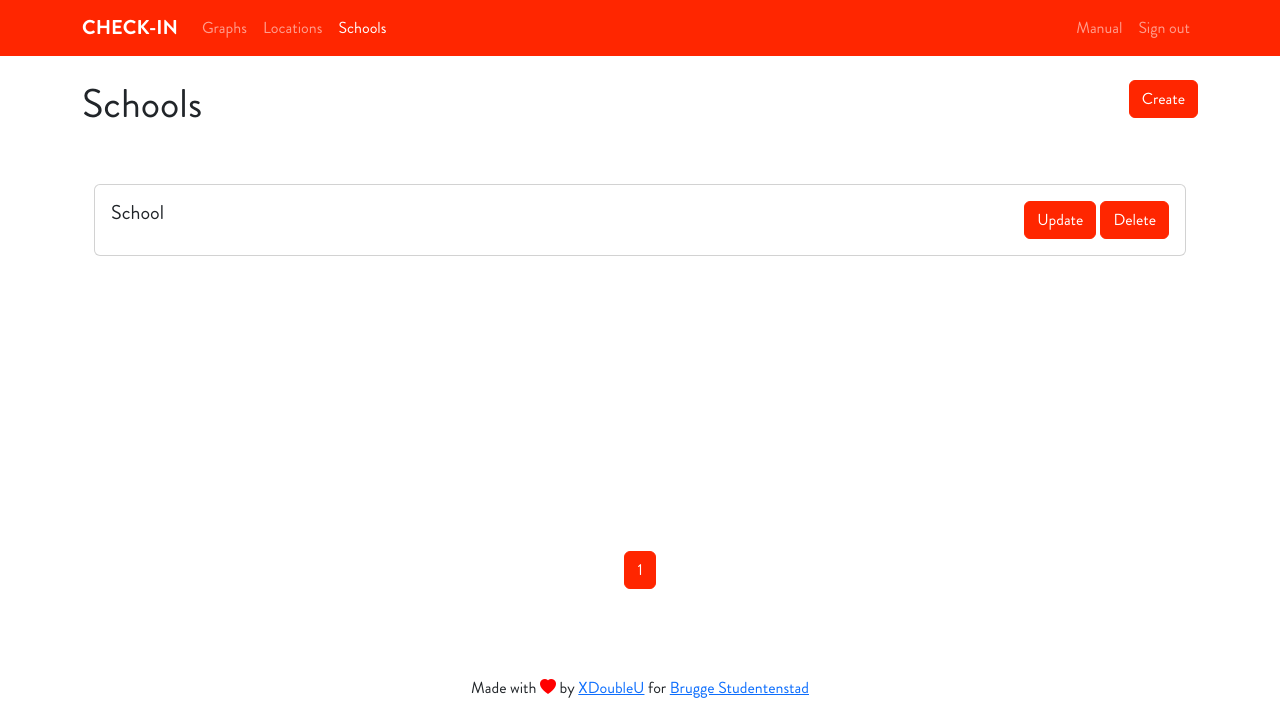
SchoolListView (page) › Updates a school, something went wrong
This screenshot has width=1280, height=720.
Click the button "Update" at (1060, 220), box top-left (1024, 201), bottom-right (1096, 239)
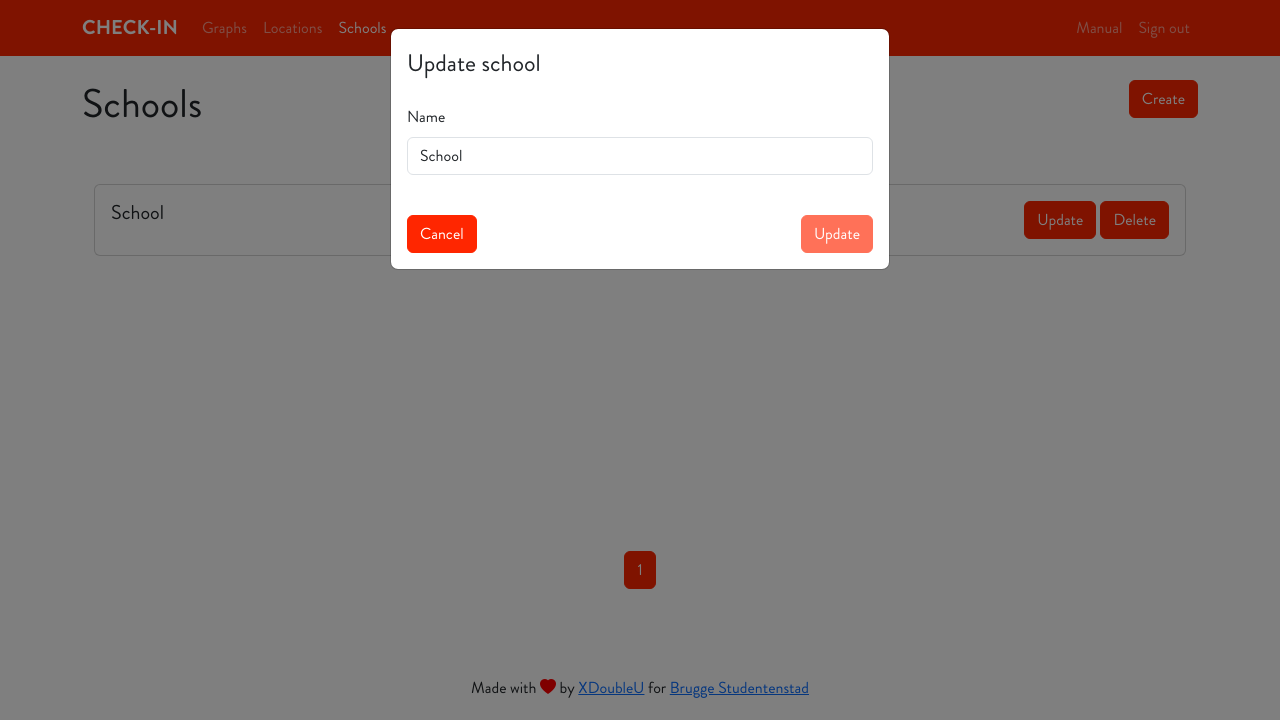
Type "newName" into the field labelled "Name" at (640, 156), box top-left (407, 137), bottom-right (873, 175)
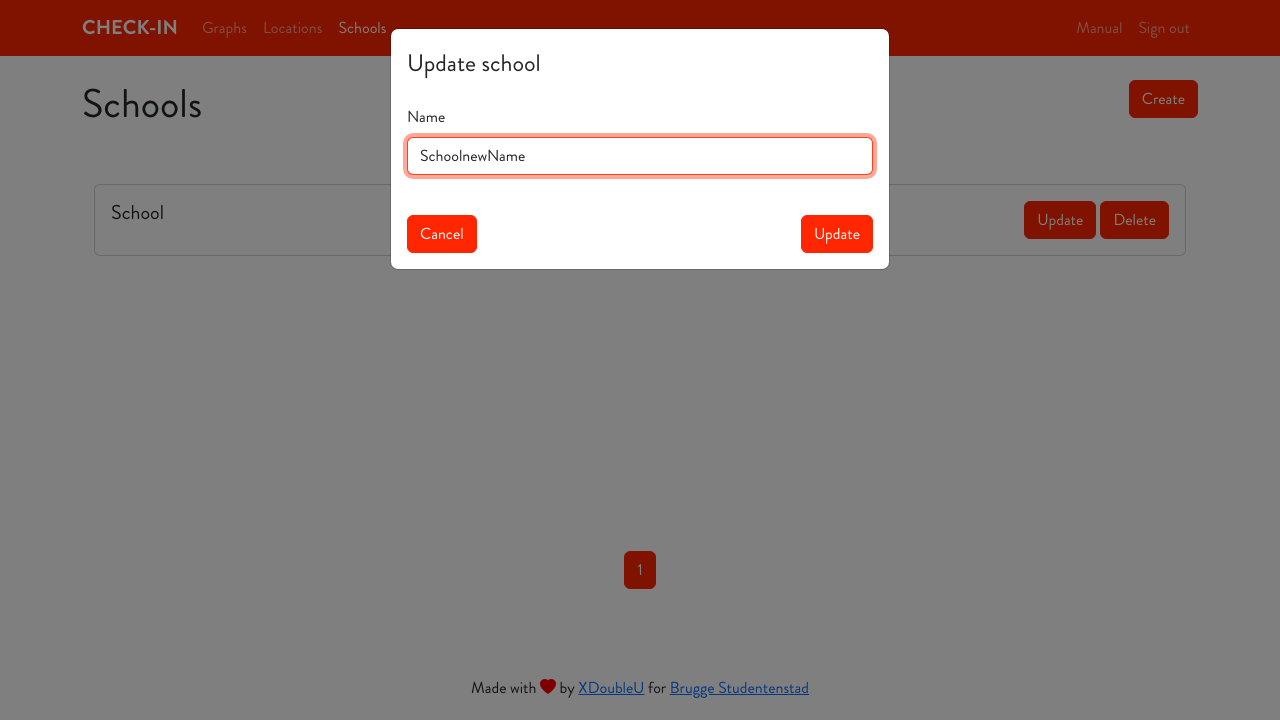
Click the button "Update" at (837, 234), box top-left (801, 215), bottom-right (873, 253)
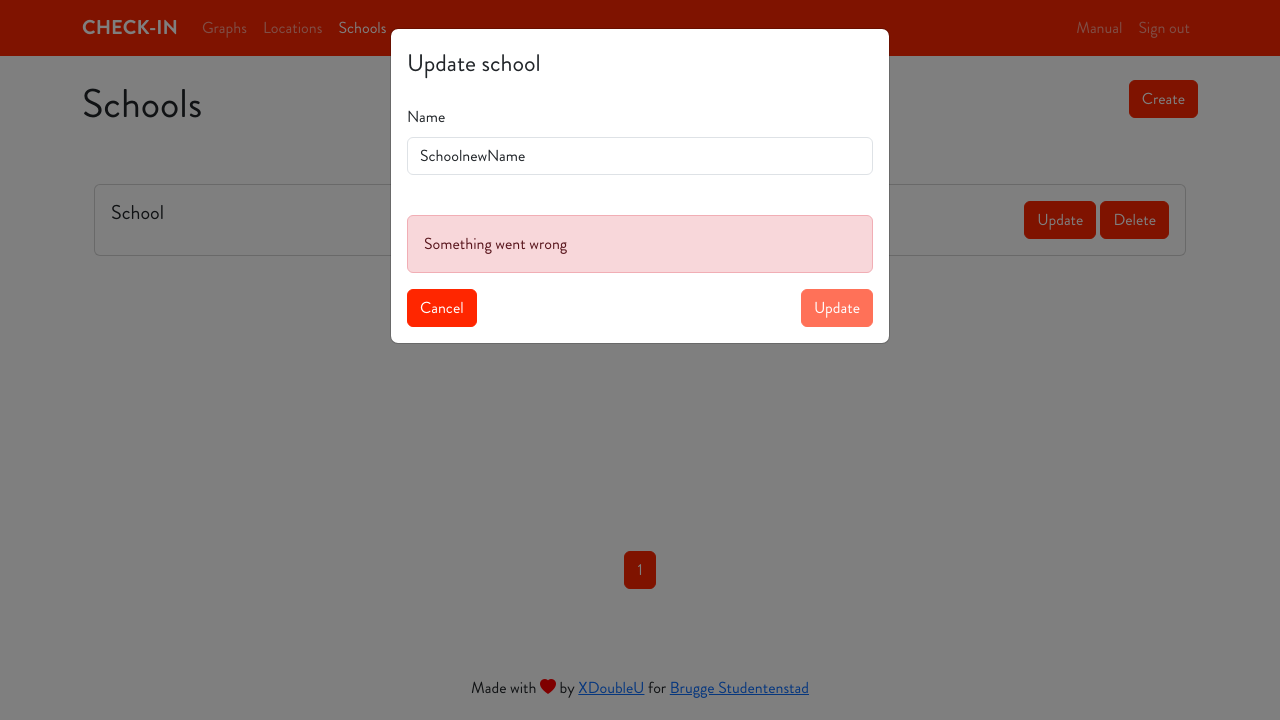
Check: the text "Something went wrong" is shown, box top-left (407, 215), bottom-right (873, 273)
